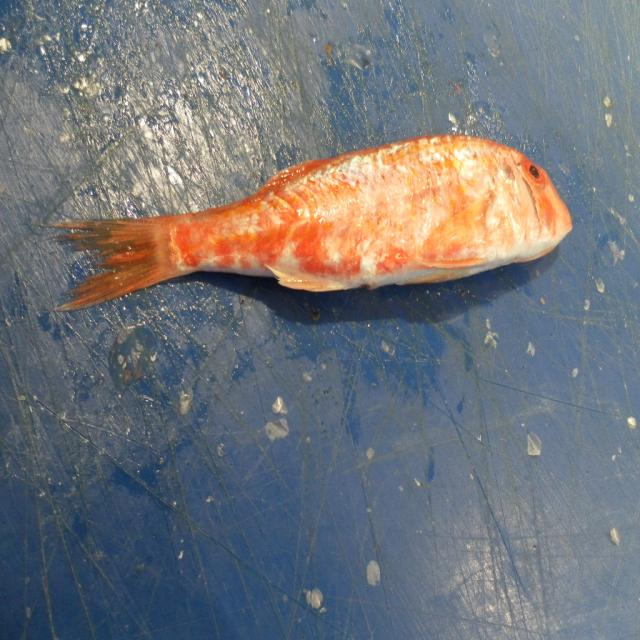Red-Mullet-kefal-: (54, 134, 574, 314)
